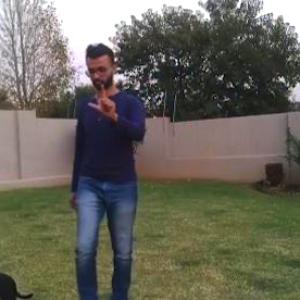land_hand: (88, 73, 126, 126)
